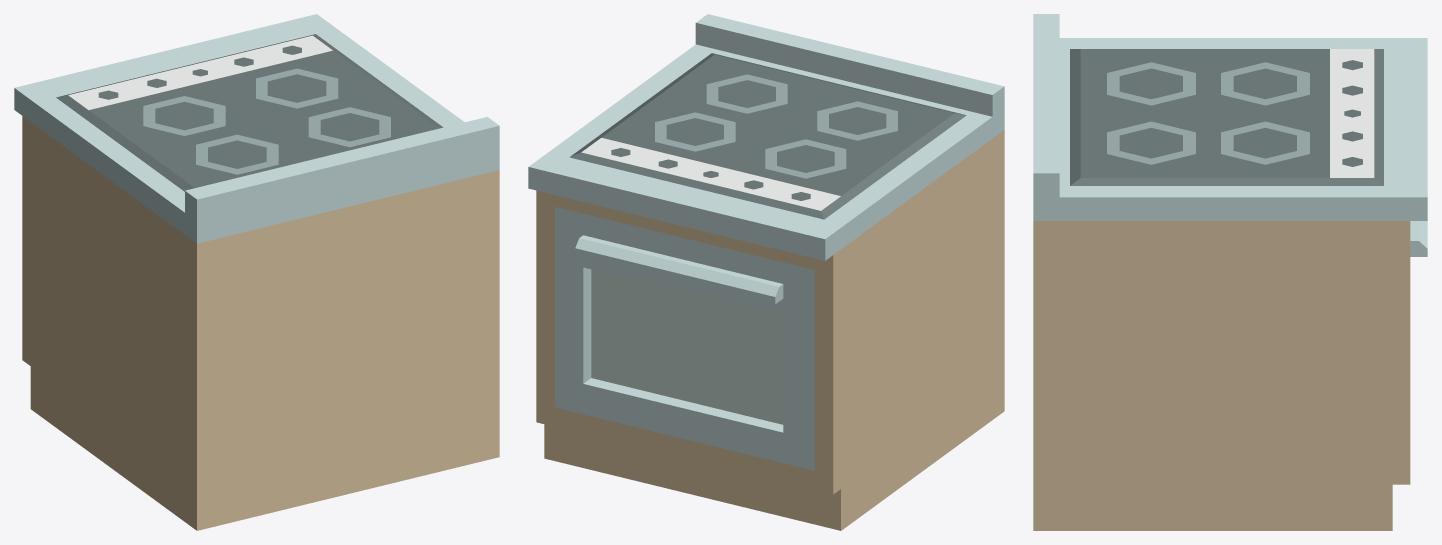
File: kitchenStoveElectric.glb
3 views of the same model, side by side, from view 1: azimuth 30°, elevation 25°; view 2: azimuth 150°, elevation 25°; view 3: azimuth 270°, elevation 25° (orthographic). The views are drawn at different scales.
Visible parts, largest first — view 1: kitchenStoveElectric; view 2: kitchenStoveElectric; view 3: kitchenStoveElectric.
Boxes of the visible parts, <box> form: kitchenStoveElectric: <box>14,14,499,530</box>; kitchenStoveElectric: <box>528,14,1004,530</box>; kitchenStoveElectric: <box>1033,14,1427,530</box>.
Bounding box in the file's own units: 4.3 × 4.5 × 4.5.
